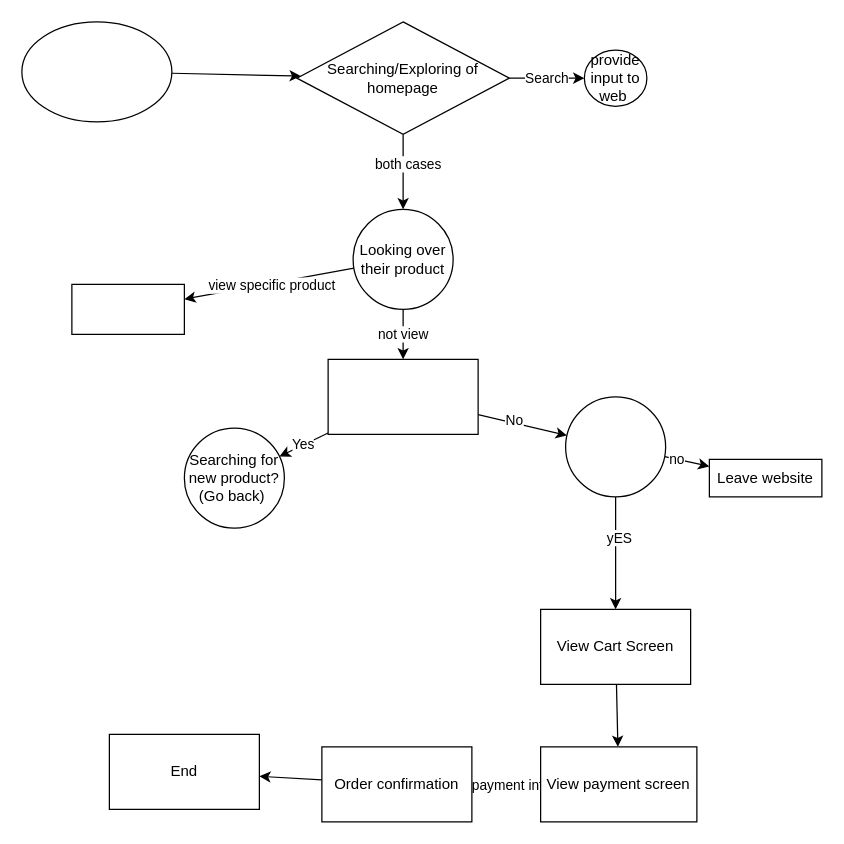
The diagram is 844 pixels wide and 844 high, and some of its shapes have lost their labels. Here are the shapes that lost their labels. From the top down, the centre of each, then its label:
At point (96, 71): "User Enters".
At point (127, 308): "Product webpage open".
At point (402, 396): "Continuing shopping or not?".
At point (615, 446): "Checkout?".
